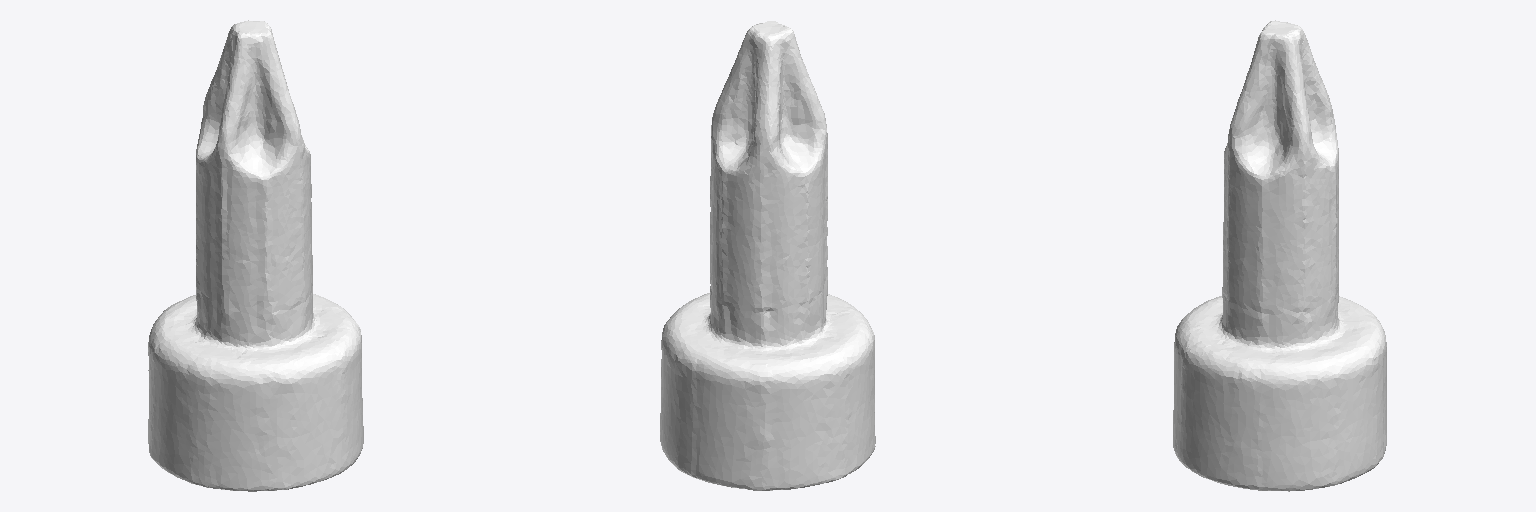
URDF robot description (d_toy_airplane):
<robot name="d_toy_airplane">
    <link name="base_link">
        <visual>
            <origin xyz="-0.0 0.0 -0.0" rpy="0.0 0.0 0.0" />
            <geometry>
                <mesh filename="d_toy_airplane/textured.obj" scale="1 1 1" />
            </geometry>
            <material name="texture">
                <color rgba="1.0 1.0 1.0 1.0" />
            </material>
        </visual>
        <collision>
            <origin xyz="-0.0 0.0 -0.0" rpy="0.0 0.0 0.0" />
            <geometry>
                <mesh filename="d_toy_airplane/textured_coacd_0.stl" scale="1 1 1" />
            </geometry>
        </collision>
        <collision>
            <origin xyz="-0.0 0.0 -0.0" rpy="0.0 0.0 0.0" />
            <geometry>
                <mesh filename="d_toy_airplane/textured_coacd_1.stl" scale="1 1 1" />
            </geometry>
        </collision>
        <collision>
            <origin xyz="-0.0 0.0 -0.0" rpy="0.0 0.0 0.0" />
            <geometry>
                <mesh filename="d_toy_airplane/textured_coacd_2.stl" scale="1 1 1" />
            </geometry>
        </collision>
        <collision>
            <origin xyz="-0.0 0.0 -0.0" rpy="0.0 0.0 0.0" />
            <geometry>
                <mesh filename="d_toy_airplane/textured_coacd_3.stl" scale="1 1 1" />
            </geometry>
        </collision>
        <collision>
            <origin xyz="-0.0 0.0 -0.0" rpy="0.0 0.0 0.0" />
            <geometry>
                <mesh filename="d_toy_airplane/textured_coacd_4.stl" scale="1 1 1" />
            </geometry>
        </collision>
        <inertial>
            <mass value="0.114" />
            <inertia ixx="1e-3" ixy="0.0" ixz="0.0" iyy="1e-3" iyz="0.0" izz="1e-3" />
        </inertial>
    </link>
</robot>

--- Render facts (derived) ---
The picture shows the robot from 3 angles, left to right: view 1: azimuth 30°, elevation 25°; view 2: azimuth 150°, elevation 25°; view 3: azimuth 270°, elevation 25°; orthographic projection.
Model d_toy_airplane with 1 links and 0 joints (none), rooted at base_link, posed all joints at 0.
Visible links, largest first — view 1: base_link; view 2: base_link; view 3: base_link.
Link boxes in pixels (x1,y1,x2,y2): base_link: (148, 20, 363, 491); base_link: (660, 21, 875, 490); base_link: (1173, 20, 1386, 491).
Bounding box of the posed robot: 0.0306 × 0.0307 × 0.0665 m (x, y, z).
1 mesh visuals loaded from 1 distinct referenced files (1 OBJ).